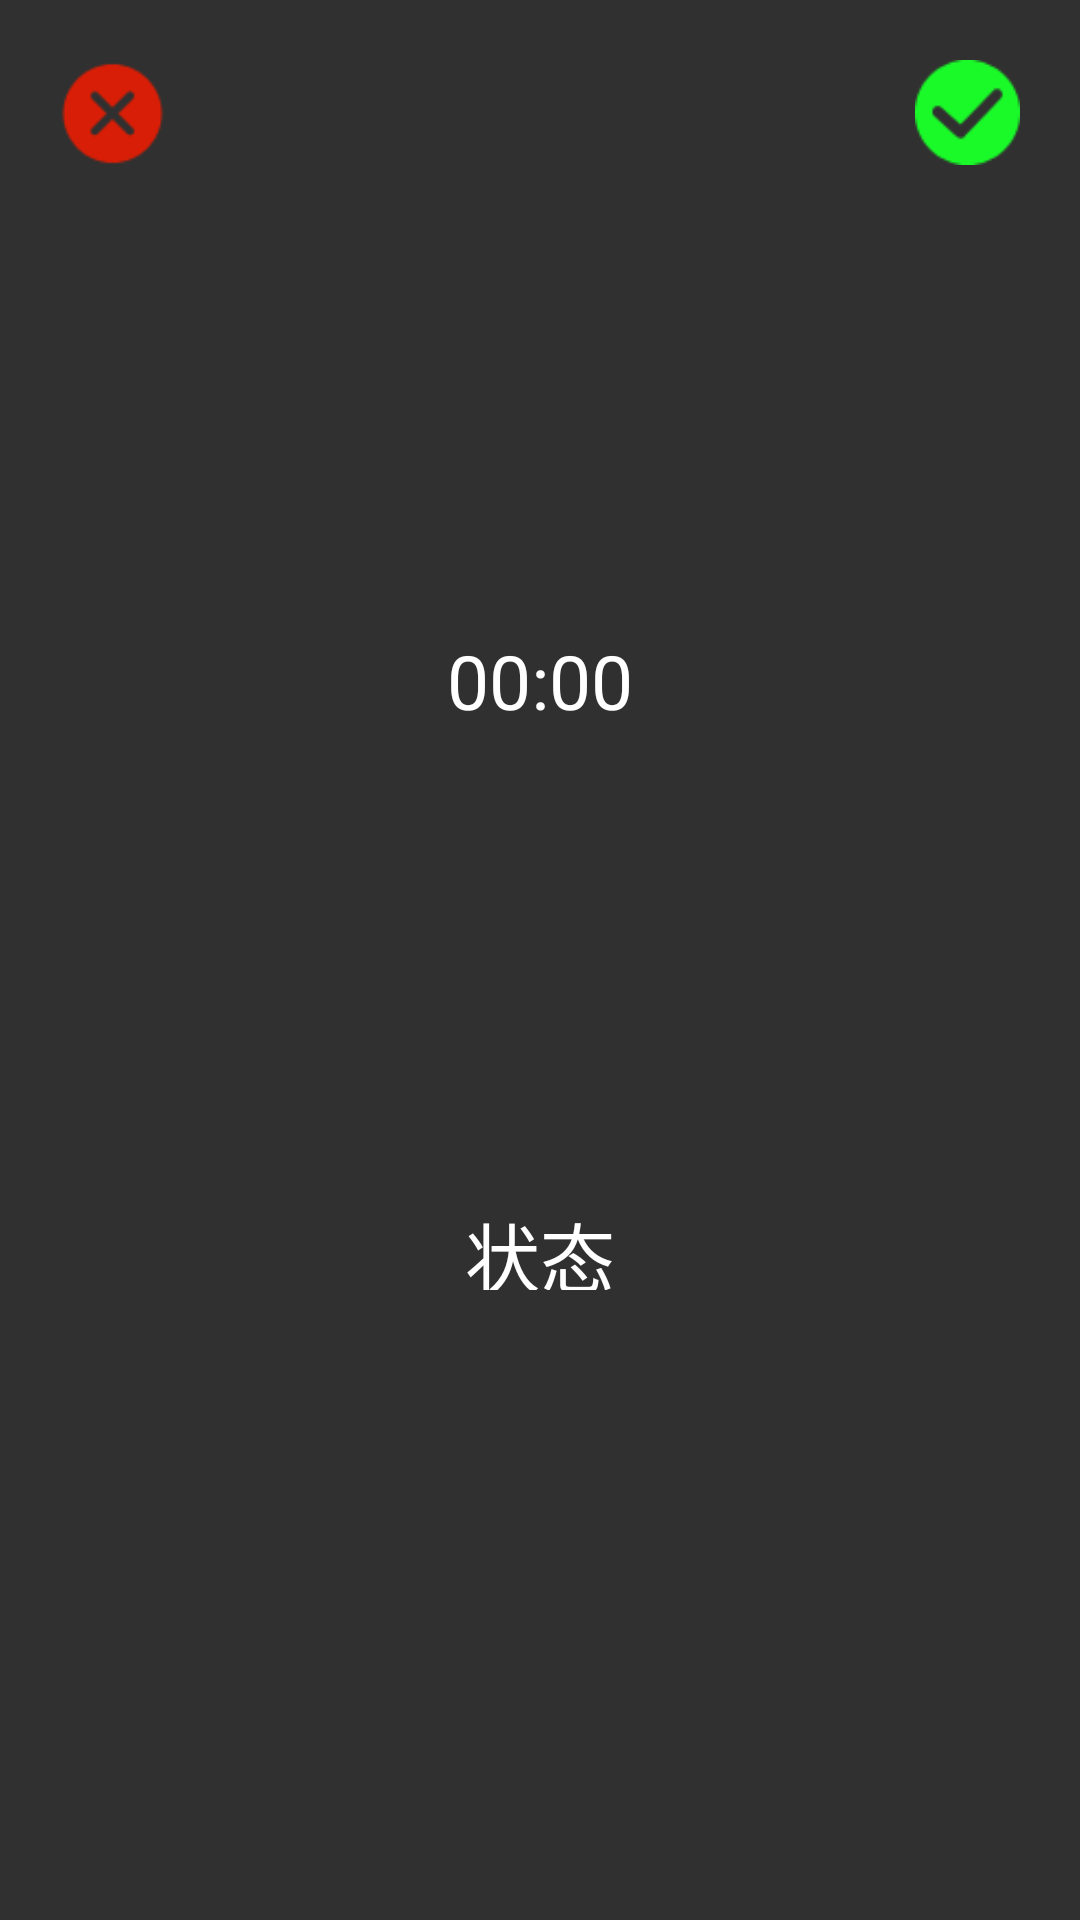

Screen size 1080 × 1920. Icon name, then its box in pixels as (x1, y1, x2, y2):
voice accept: (915, 60, 1020, 165)
voice reject: (62, 64, 163, 164)
